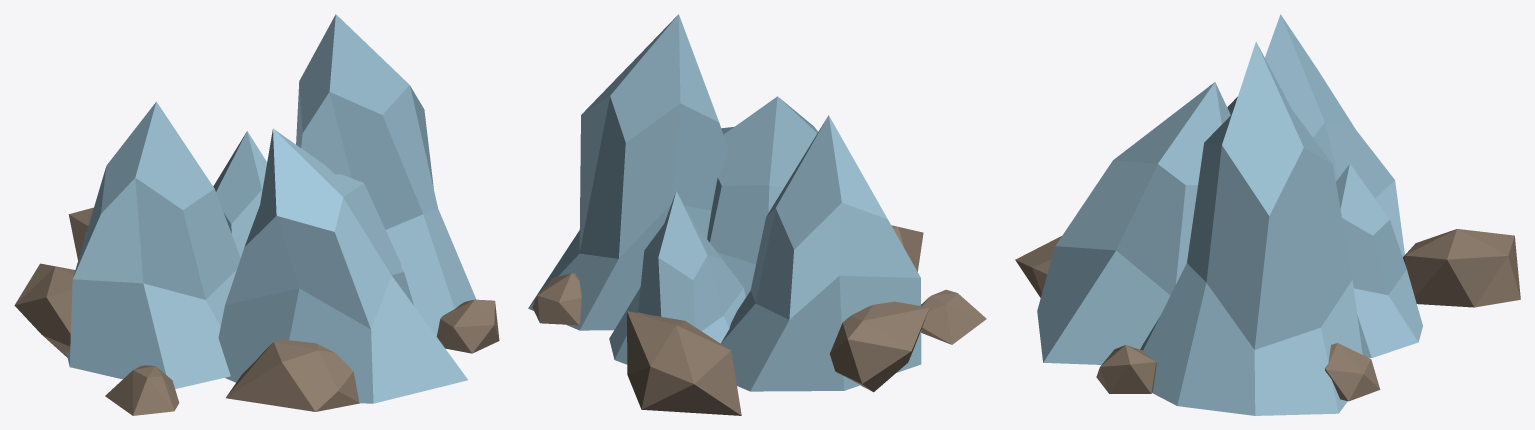
The model's file is Mithril.fbx.
3 views of the same model, side by side, from view 1: azimuth 30°, elevation 25°; view 2: azimuth 150°, elevation 25°; view 3: azimuth 270°, elevation 25° (orthographic). The views are drawn at different scales.
Parts seen in each view (by area): view 1: Cube, Cube.001, Cube.003, Icosphere, Cube.002, Icosphere.005, Icosphere.003, Icosphere.001, Icosphere.002; view 2: Cube.001, Cube.003, Cube, Cube.002, Icosphere.002, Icosphere.005, Icosphere.001, Icosphere.004, Icosphere; view 3: Cube.003, Cube, Cube.002, Cube.001, Icosphere.002, Icosphere.003, Icosphere.004, Icosphere.
Part boxes in pixels (box(x1,y1,x2,y2)): Cube: box(218, 128, 467, 403); Cube.001: box(66, 101, 240, 388); Cube.003: box(296, 14, 476, 336); Icosphere: box(226, 339, 359, 411); Cube.002: box(213, 131, 266, 257); Icosphere.005: box(14, 263, 75, 357); Icosphere.003: box(436, 299, 499, 353); Icosphere.001: box(105, 365, 179, 415); Icosphere.002: box(68, 207, 93, 260); Cube.001: box(721, 115, 921, 391); Cube.003: box(528, 14, 728, 330); Cube: box(707, 96, 817, 296); Cube.002: box(609, 191, 745, 364); Icosphere.002: box(627, 311, 741, 415); Icosphere.005: box(830, 301, 929, 392); Icosphere.001: box(921, 289, 986, 344); Icosphere.004: box(532, 273, 581, 325); Icosphere: box(891, 225, 923, 271); Cube.003: box(1140, 42, 1362, 415); Cube: box(1037, 82, 1230, 364); Cube.002: box(1336, 164, 1422, 357); Cube.001: box(1227, 14, 1404, 256); Icosphere.002: box(1403, 229, 1520, 307); Icosphere.003: box(1096, 345, 1156, 393); Icosphere.004: box(1325, 343, 1380, 401); Icosphere: box(1015, 236, 1061, 297).
Size of the model in its own units: 543 by 400 by 569.
